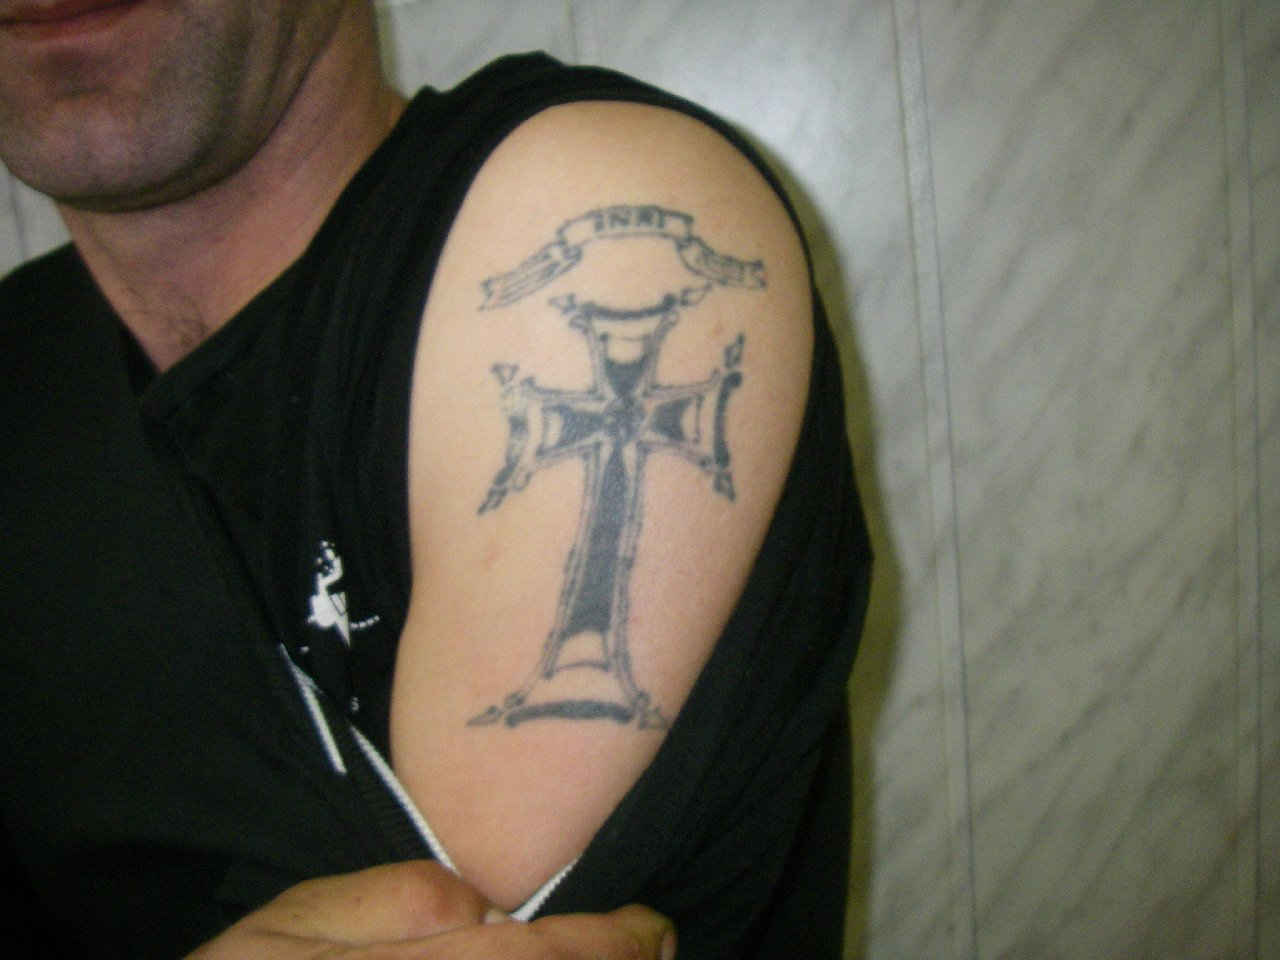tatu9_krest: (458, 199, 777, 750)
